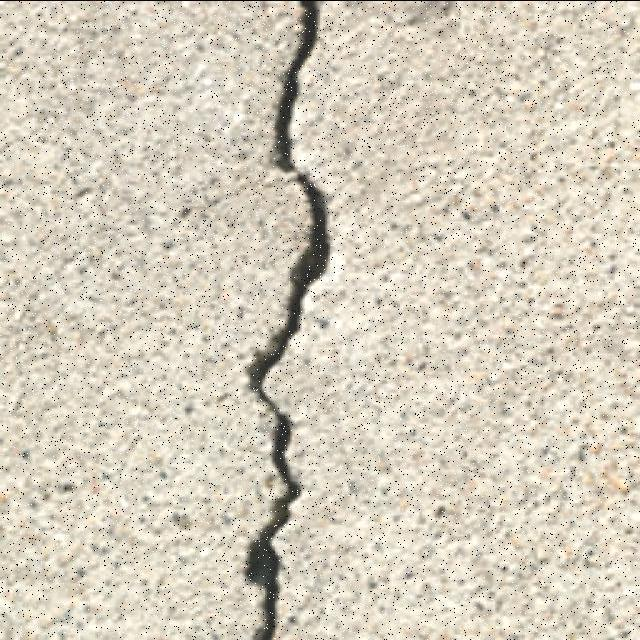Crack: (240, 1, 330, 638)
